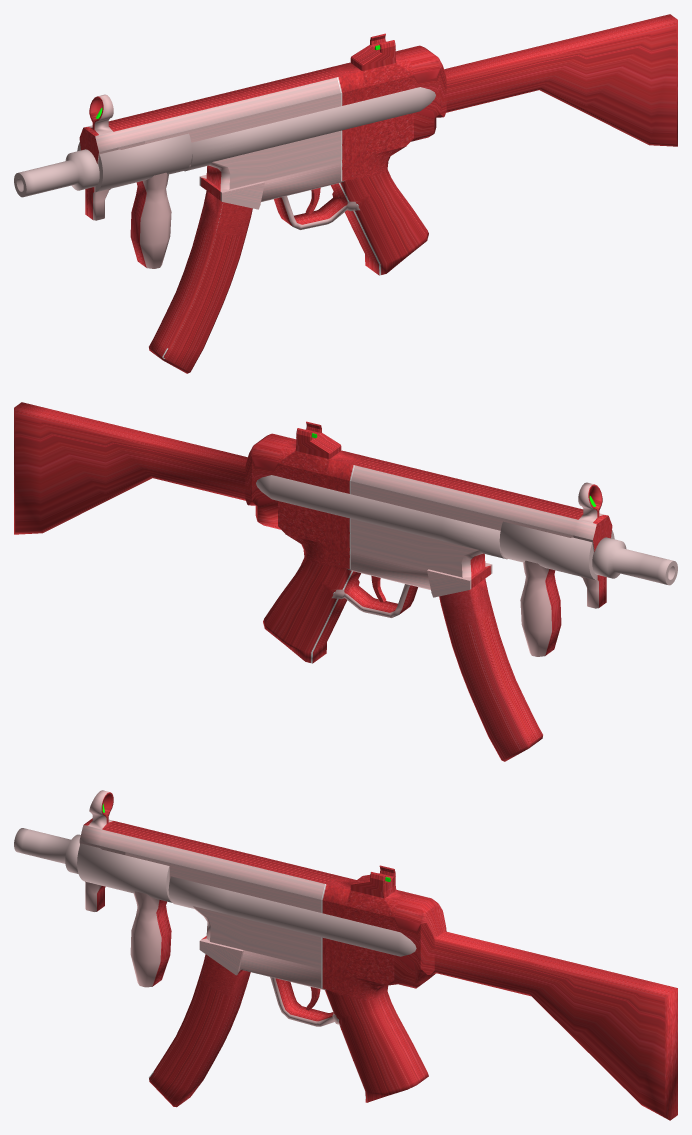
Rendered from guns.obj.
The picture shows the model from 3 angles, top to bottom: view 1: azimuth 30°, elevation 25°; view 2: azimuth 150°, elevation 25°; view 3: azimuth 330°, elevation 25°; orthographic projection.
Parts seen in each view (by area): view 1: Body_Cube.001, Magazine_立方体; view 2: Body_Cube.001, Magazine_立方体; view 3: Body_Cube.001, Magazine_立方体.
Part boxes in pixels (x1,y1,x2,y2): Body_Cube.001: (14,14,677,275); Magazine_立方体: (149,191,252,373); Body_Cube.001: (14,402,677,663); Magazine_立方体: (439,579,542,761); Body_Cube.001: (14,790,677,1120); Magazine_立方体: (149,954,250,1107).
Size of the model in its own units: 12.65 by 5.39 by 0.8716.
Materials: 3 (2 with a texture image).
